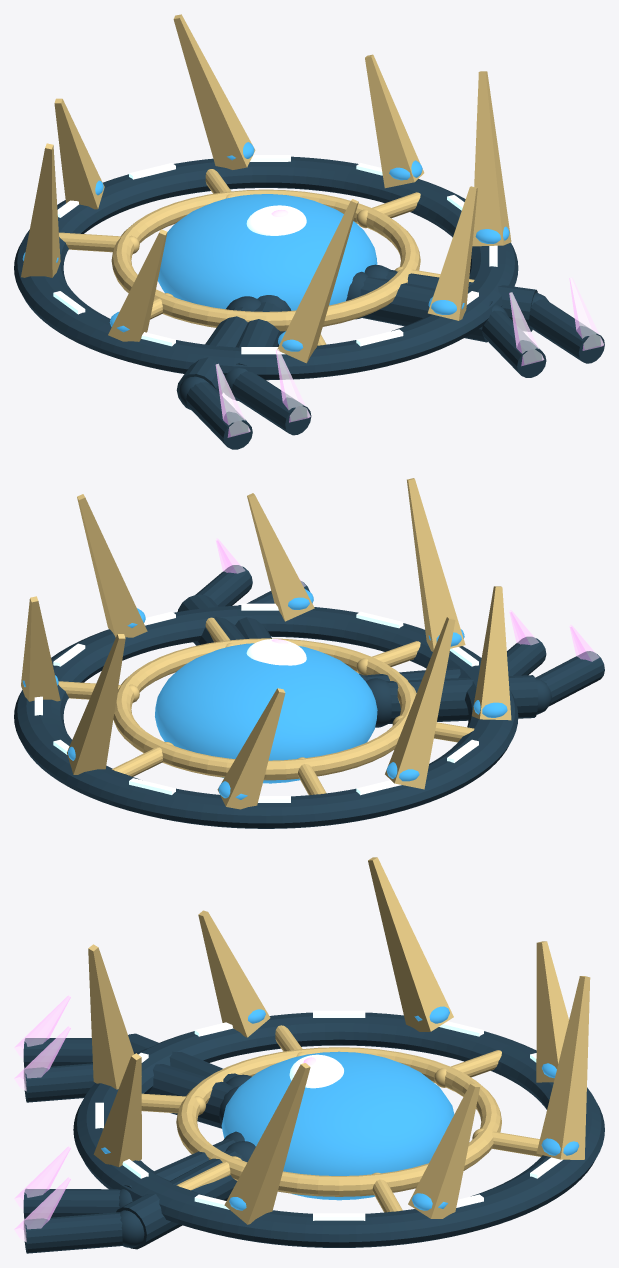
The model's file is keeper_nun.glb.
3 views of the same model, one above another, from view 1: azimuth 30°, elevation 25°; view 2: azimuth 150°, elevation 25°; view 3: azimuth 270°, elevation 25° (orthographic). The views are drawn at different scales.
Visible parts, largest first — view 1: Sphere; view 2: Sphere; view 3: Sphere.
Boxes of the visible parts, box(x1,y1,x2,y2) form: Sphere: box(14, 14, 604, 449); Sphere: box(14, 478, 604, 828); Sphere: box(14, 857, 604, 1253).
Size of the model in its own units: 6.1 by 2.79 by 6.78.
